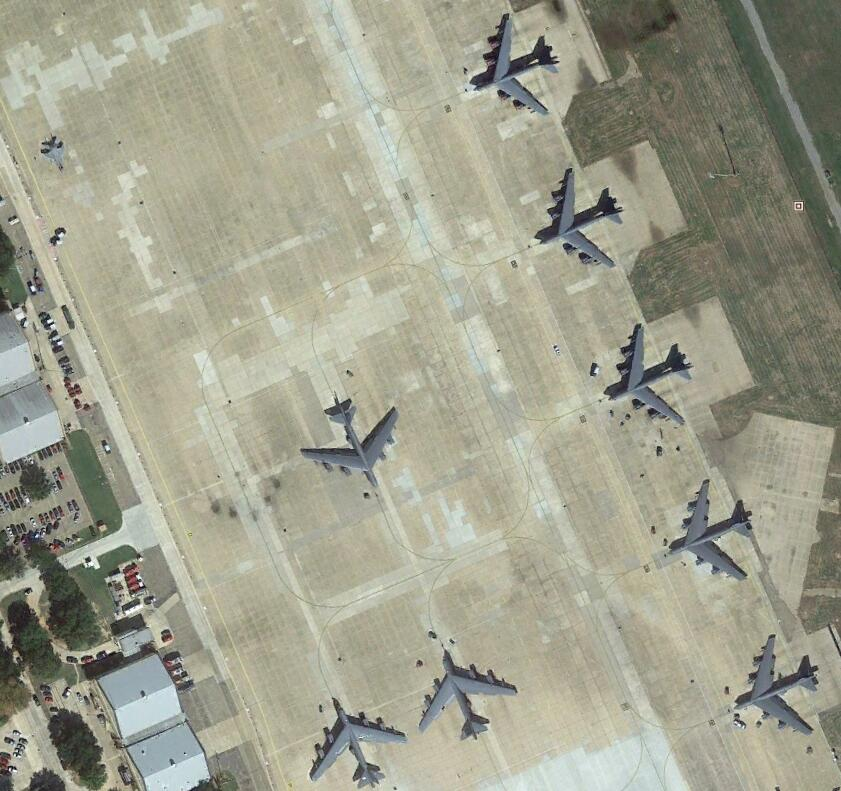A8: (532, 163, 629, 277), (596, 319, 697, 428), (413, 646, 522, 745), (297, 390, 403, 490), (660, 475, 759, 582), (466, 12, 562, 120), (302, 697, 412, 790), (732, 630, 822, 739)
